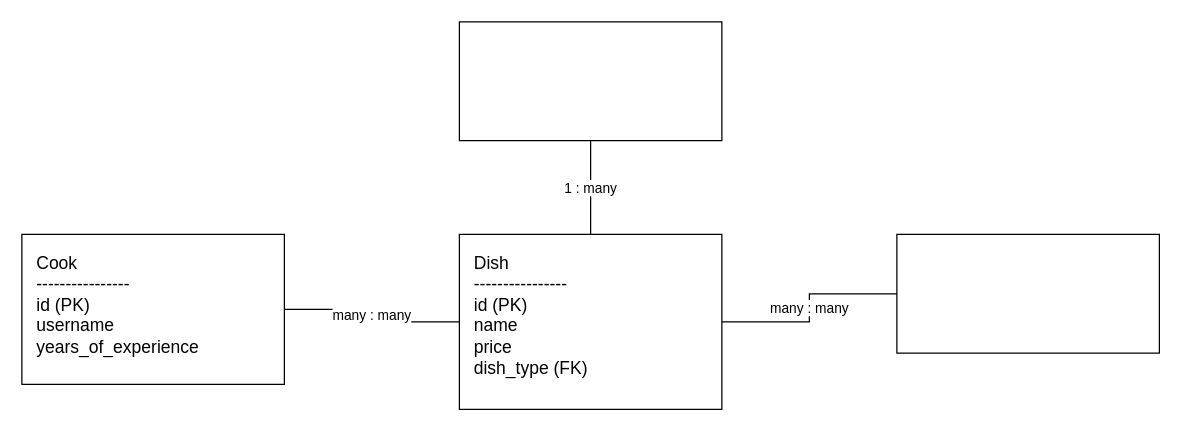
The diagram is 1181 pixels wide and 431 high, and some of its shapes have lost their labels. Here are the shapes that lost their labels. From the top down, the centre of each, then its label:
At (590,81): "DishType ---------------- id (PK) name".
At (1027,293): "Ingredient ---------------- id (PK) name".
